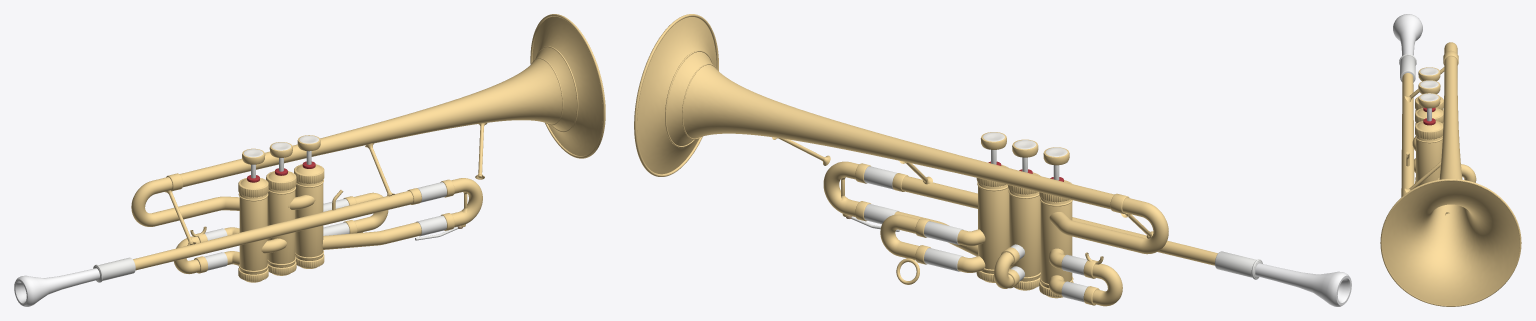
Rendered from trumpet.glb.
3 renders of one model, left to right at view 1: azimuth 30°, elevation 25°; view 2: azimuth 150°, elevation 25°; view 3: azimuth 270°, elevation 25°, orthographic. The views are drawn at different scales.
Visible parts, largest first — view 1: Body, valve3, valve1, valve2; view 2: Body, valve1, valve2, valve3; view 3: Body, valve3, valve1, valve2.
Boxes of the visible parts, x1,y1,x2,y2 form: Body: (14, 14, 605, 306); valve3: (297, 135, 320, 164); valve1: (242, 148, 265, 178); valve2: (269, 142, 292, 171); Body: (634, 14, 1351, 306); valve1: (1043, 147, 1069, 180); valve2: (1012, 139, 1038, 172); valve3: (980, 132, 1006, 164); Body: (1380, 14, 1521, 306); valve3: (1418, 93, 1440, 121); valve1: (1418, 67, 1440, 81); valve2: (1418, 80, 1440, 93).
Bounding box in the file's own units: 0.5544 × 0.1653 × 0.1245.
